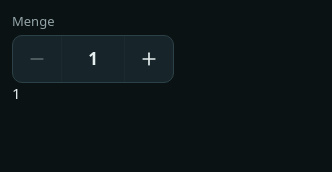
Test: Stepper › nimmt getippte Zahlen und bringt sie beim Verlassen in den erlaubten Bereich
Step 1. Replace the text in the field labelled "Menge" with "12" → (93, 59), box [61,36,125,82]
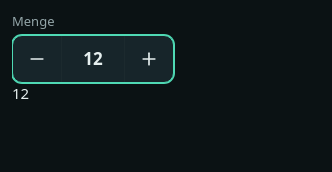
Expected: the text "12" is shown, [12,83,29,103]
Step 2. Replace the text in the field labelled "Menge" with "99" → (93, 59), box [61,36,125,82]
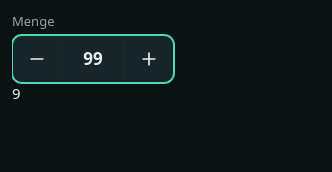
Expected: the text "9" is shown, [12,83,21,103]
Step 3. Press Tab
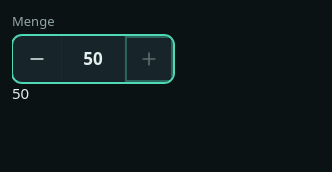
Expected: the field labelled "Menge" holds "50"
Expected: the text "50" is shown, [12,83,29,103]
Step 4. Replace the text in the field labelled "Menge" with "abc" → (93, 59), box [61,36,125,82]
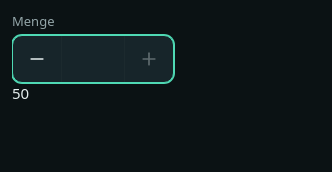
Step 5. Press Tab
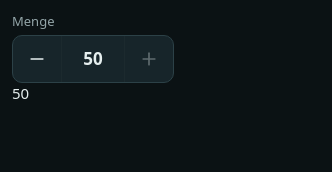
Expected: the field labelled "Menge" holds "50", [61,36,125,82]
